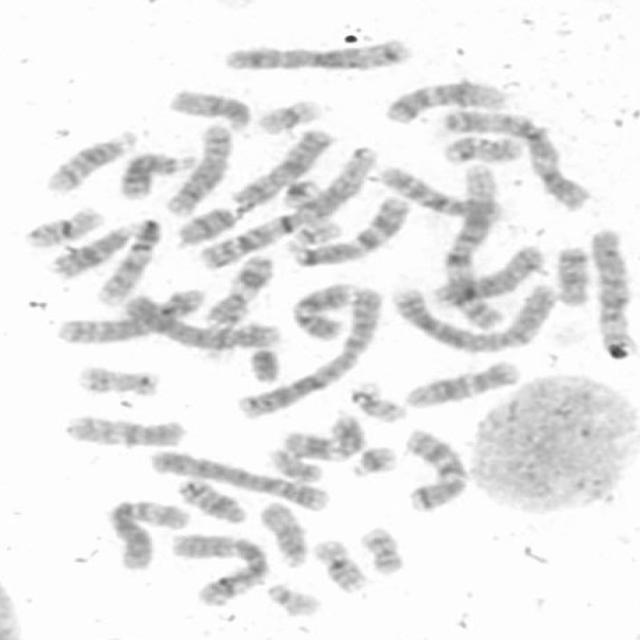A1: (191, 144, 382, 271), (439, 157, 508, 328)
A2: (230, 282, 384, 421), (386, 280, 561, 354)
A3: (435, 105, 594, 213), (164, 530, 272, 609)
B4: (144, 447, 330, 512), (120, 289, 282, 351)
B5: (50, 284, 209, 348), (219, 35, 415, 73)
C10: (377, 162, 508, 224), (60, 412, 185, 449)
C11: (199, 251, 276, 330), (278, 409, 368, 462)
C12: (399, 357, 521, 410), (379, 76, 509, 125)
C6: (102, 496, 192, 571), (586, 225, 634, 359)
C7: (286, 192, 411, 269), (400, 425, 470, 514)
C8: (428, 242, 547, 308), (160, 120, 233, 217)
C9: (90, 216, 162, 308), (288, 280, 356, 342)
D13: (42, 220, 136, 281), (113, 150, 198, 202)
D14: (39, 126, 141, 194), (172, 476, 248, 524)
D15: (163, 86, 255, 132), (254, 497, 311, 569)
E16: (19, 202, 108, 250), (310, 535, 370, 597)
E17: (74, 362, 162, 398), (439, 132, 523, 166)
E18: (176, 206, 238, 249), (550, 243, 592, 306)
F19: (251, 96, 322, 136), (346, 384, 411, 424)
F20: (356, 524, 407, 576), (265, 443, 326, 485)
G21: (346, 443, 397, 479), (276, 174, 322, 210)
G22: (282, 215, 343, 253), (262, 580, 322, 618)
X: (227, 125, 336, 209)
Y: (245, 346, 282, 384)
